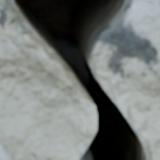brick: (0, 146, 9, 159)
crack: (1, 0, 159, 159)
